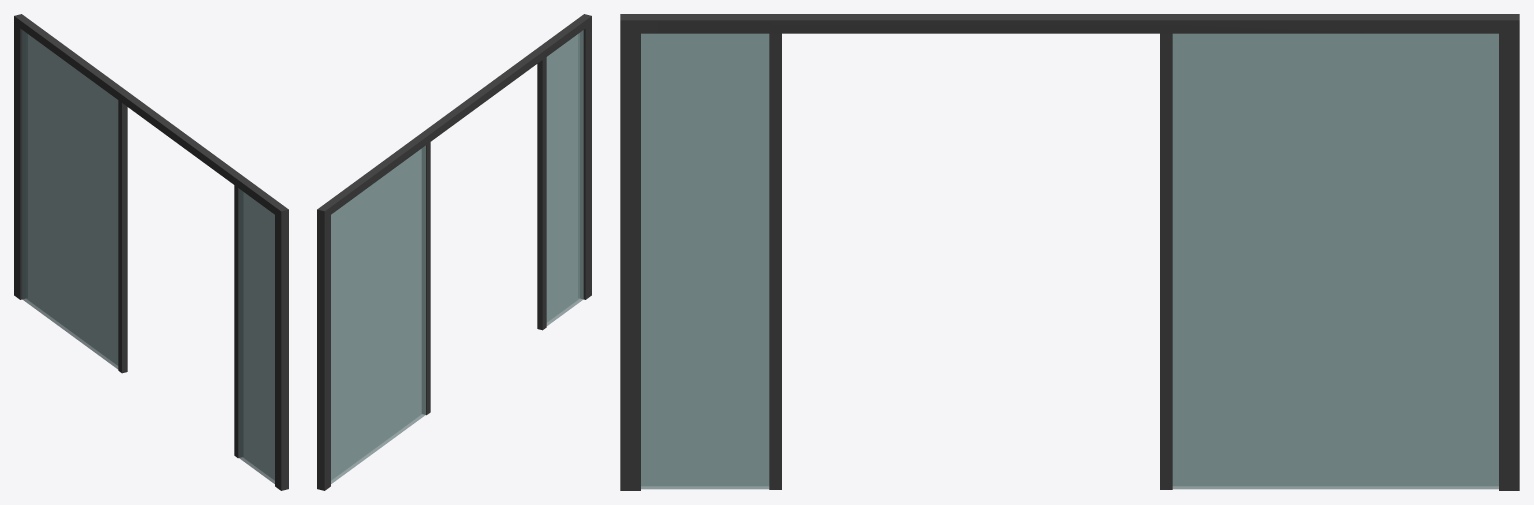
The model's file is PABooth.fbx.
The picture shows the model from 3 angles, left to right: view 1: azimuth 30°, elevation 25°; view 2: azimuth 150°, elevation 25°; view 3: azimuth 270°, elevation 25°; orthographic projection. The views are drawn at different scales.
Visible parts, largest first — view 1: pCube3, pCube1; view 2: pCube3, pCube1; view 3: pCube3, pCube1.
Boxes of the visible parts, x1,y1,x2,y2 form: pCube3: [22, 30, 274, 483]; pCube1: [14, 14, 288, 490]; pCube3: [331, 30, 583, 483]; pCube1: [317, 14, 591, 490]; pCube3: [641, 33, 1498, 489]; pCube1: [620, 14, 1519, 490].
Size of the model in its own units: 5.92 by 204 by 354.
